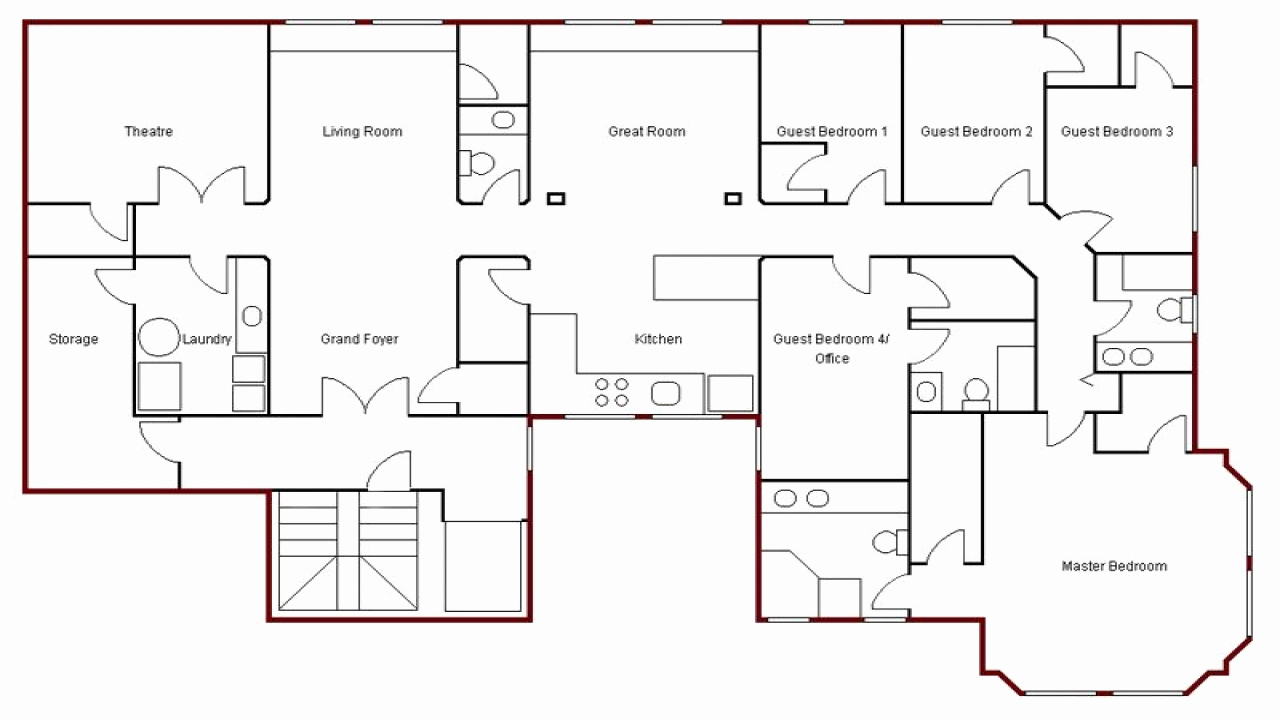door: (312, 364, 414, 410), (147, 155, 256, 197), (1067, 184, 1134, 243), (364, 445, 425, 484), (840, 162, 896, 199), (180, 265, 234, 303), (1032, 417, 1091, 451), (830, 267, 887, 302), (909, 267, 953, 312), (469, 50, 505, 103), (1047, 30, 1086, 77), (90, 260, 126, 310), (487, 263, 525, 310), (1127, 46, 1174, 84), (1147, 407, 1191, 447), (86, 208, 131, 247), (415, 360, 452, 407), (135, 419, 177, 460), (919, 521, 974, 552), (921, 325, 960, 365), (865, 575, 904, 614), (990, 165, 1034, 199), (780, 160, 812, 195), (1109, 294, 1138, 328), (493, 165, 525, 190)
room: (982, 450, 1243, 707), (527, 252, 758, 421), (1043, 23, 1201, 255), (531, 47, 758, 206), (269, 21, 461, 204), (901, 16, 1053, 206), (757, 19, 908, 207)
window: (1226, 571, 1270, 633), (653, 7, 722, 42), (371, 8, 439, 41), (287, 7, 354, 39), (562, 10, 635, 39), (1121, 669, 1178, 706), (1234, 491, 1265, 556), (1028, 677, 1093, 707), (1186, 165, 1213, 230), (943, 12, 1002, 36), (808, 11, 843, 36)
